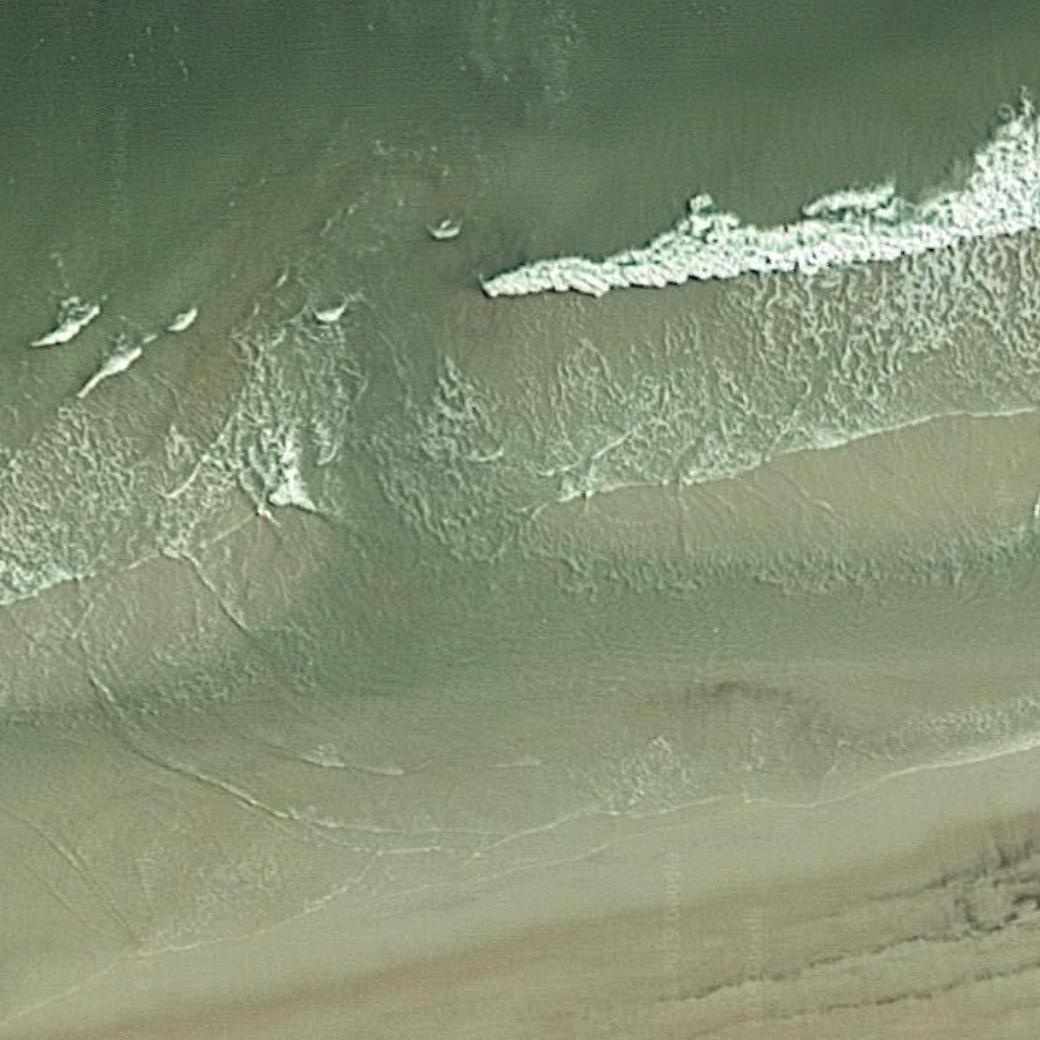rip_current: (253, 130, 499, 538)
